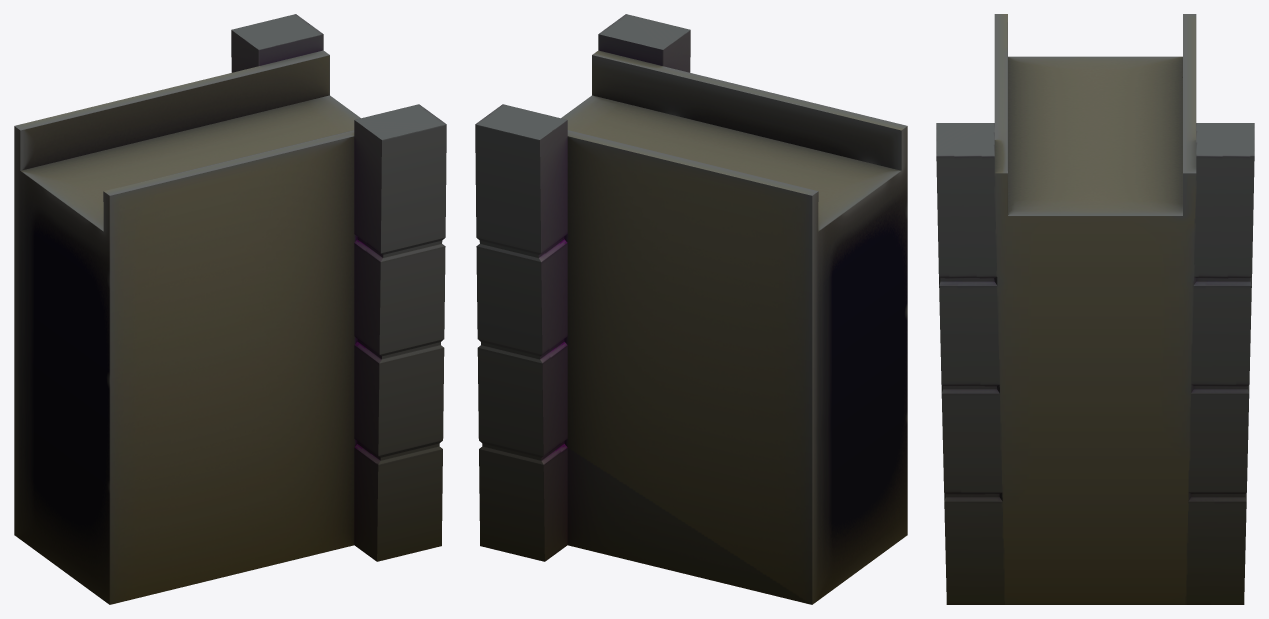
File: wall.fbx
3 renders of one model, left to right at view 1: azimuth 30°, elevation 25°; view 2: azimuth 150°, elevation 25°; view 3: azimuth 270°, elevation 25°, orthographic. The views are drawn at different scales.
Parts seen in each view (by area): view 1: wall; view 2: wall; view 3: wall.
Part boxes in pixels (x1=…): wall: x1=14, y1=14, x2=446, y2=604; wall: x1=475, y1=14, x2=907, y2=604; wall: x1=936, y1=14, x2=1254, y2=604.
Bounding box in the file's own units: 713 × 936 × 602.
Materials: 1 (1 with a texture image).
